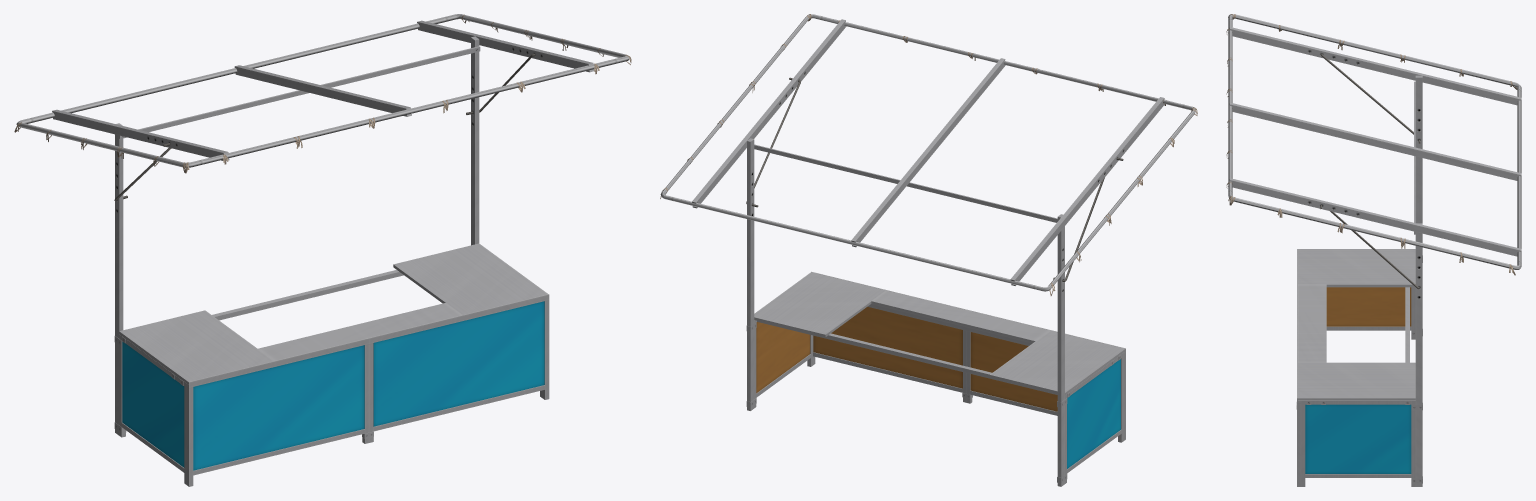
The model's file is jsf_2P_s03_c02_t03.fbx.
3 renders of one model, left to right at view 1: azimuth 30°, elevation 25°; view 2: azimuth 150°, elevation 25°; view 3: azimuth 270°, elevation 25°, orthographic. The views are drawn at different scales.
Visible parts, largest first — view 1: Base_s03_c02, Pillar2_s03, Table_2P_s03_t03, Rope_2P_s03; view 2: Base_s03_c02, Pillar2_s03, Table_2P_s03_t03; view 3: Pillar2_s03, Base_s03_c02, Table_2P_s03_t03, Rope_2P_s03.
Boxes of the visible parts, bbox=[...] form: Base_s03_c02: bbox=[114, 294, 549, 486]; Pillar2_s03: bbox=[16, 14, 629, 435]; Table_2P_s03_t03: bbox=[119, 243, 547, 385]; Rope_2P_s03: bbox=[14, 14, 631, 173]; Base_s03_c02: bbox=[746, 271, 1125, 483]; Pillar2_s03: bbox=[660, 14, 1196, 486]; Table_2P_s03_t03: bbox=[754, 272, 1125, 397]; Pillar2_s03: bbox=[1228, 14, 1521, 486]; Base_s03_c02: bbox=[1296, 249, 1422, 486]; Table_2P_s03_t03: bbox=[1298, 249, 1415, 404]; Rope_2P_s03: bbox=[1226, 14, 1517, 275].
Bounding box in the file's own units: 316 × 244 × 211.
